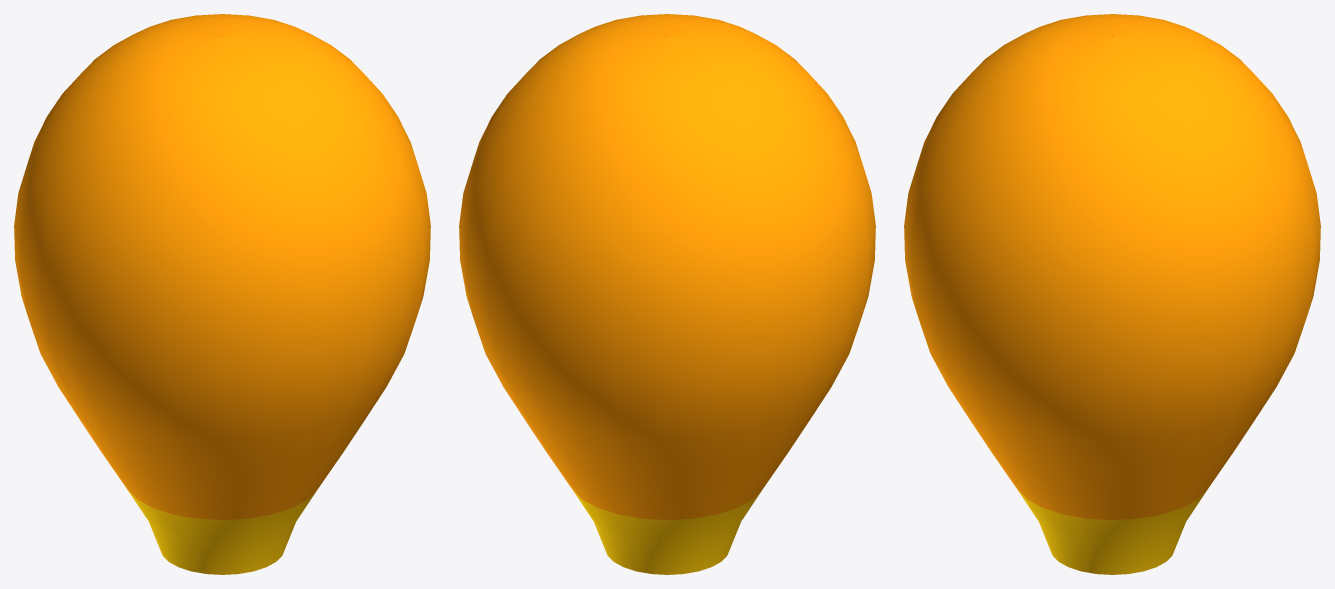
The model's file is balloonOrange.gltf.
3 renders of one model, left to right at view 1: azimuth 30°, elevation 25°; view 2: azimuth 150°, elevation 25°; view 3: azimuth 270°, elevation 25°, orthographic.
Visible parts, largest first — view 1: balloonOrangeEnvelope; view 2: balloonOrangeEnvelope; view 3: balloonOrangeEnvelope.
Part boxes in pixels (<box>): balloonOrangeEnvelope: <box>14,14,430,574</box>; balloonOrangeEnvelope: <box>459,14,875,574</box>; balloonOrangeEnvelope: <box>904,14,1320,574</box>.
Size of the model in its own units: 6.9 by 9.34 by 6.9.
Materials: 1 (1 with a texture image).
